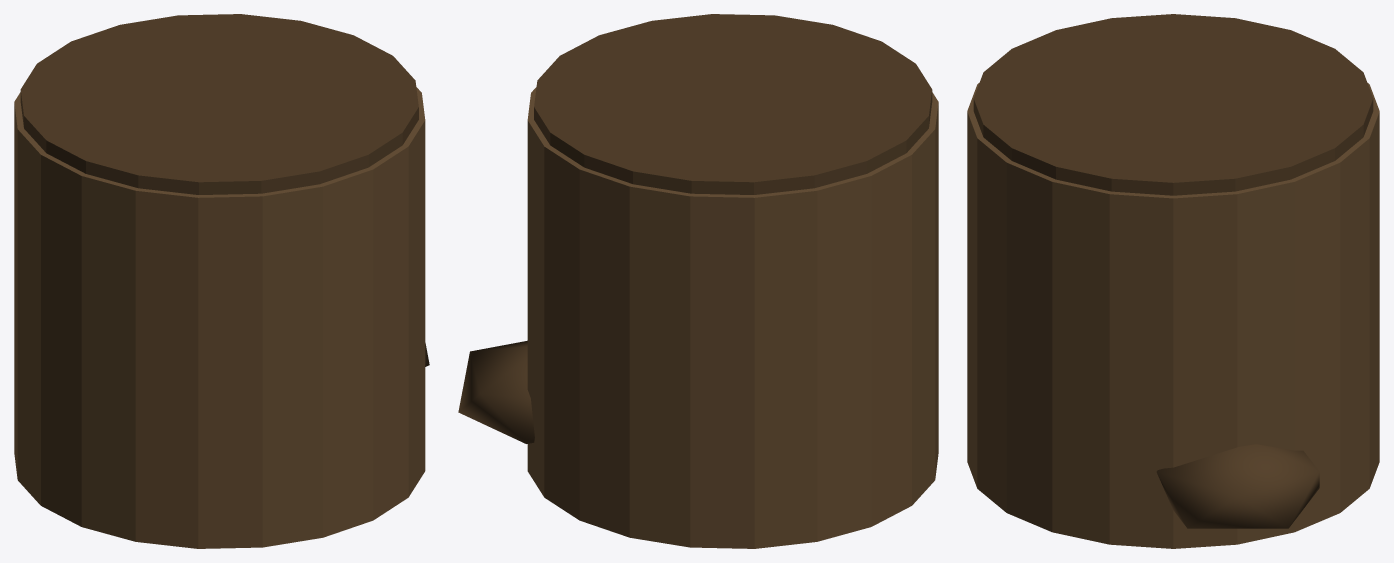
Rendered from stump_01.glb.
3 renders of one model, left to right at view 1: azimuth 30°, elevation 25°; view 2: azimuth 150°, elevation 25°; view 3: azimuth 270°, elevation 25°, orthographic.
Parts seen in each view (by area): view 1: Cylinder; view 2: Cylinder; view 3: Cylinder.
Boxes of the visible parts, x1,y1,x2,y2 form: Cylinder: [14, 14, 429, 548]; Cylinder: [458, 14, 938, 548]; Cylinder: [967, 14, 1379, 548].
Bounding box in the file's own units: 0.3664 × 0.311 × 0.32.
